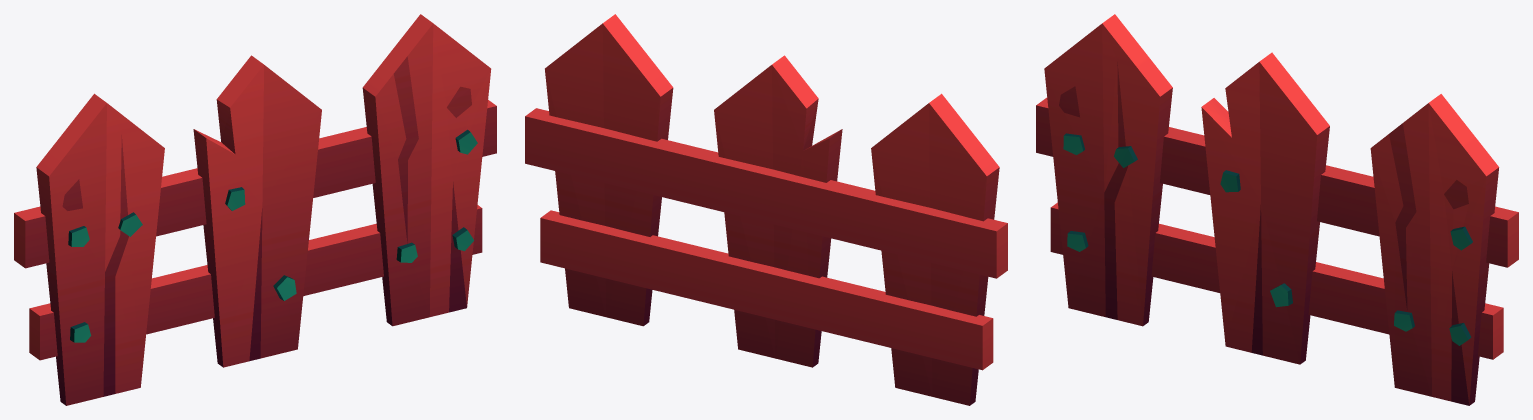
File: fence_2.glb
3 views of the same model, side by side, from view 1: azimuth 30°, elevation 25°; view 2: azimuth 150°, elevation 25°; view 3: azimuth 330°, elevation 25° (orthographic).
Parts seen in each view (by area): view 1: fence_2; view 2: fence_2; view 3: fence_2.
Boxes of the visible parts, x1,y1,x2,y2 form: fence_2: (14, 14, 496, 405); fence_2: (525, 14, 1007, 405); fence_2: (1036, 14, 1518, 405).
Size of the model in its own units: 1.05 by 0.6302 by 0.0799.
Materials: 1 (1 with a texture image).
